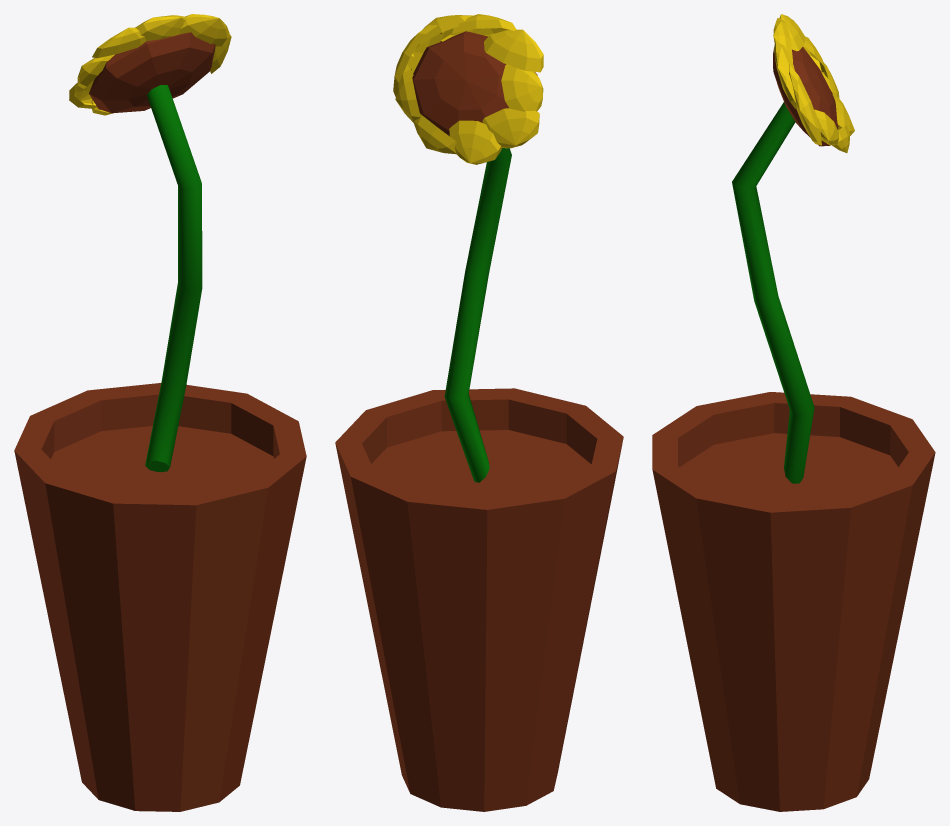
Rendered from vase.fbx.
3 views of the same model, side by side, from view 1: azimuth 30°, elevation 25°; view 2: azimuth 150°, elevation 25°; view 3: azimuth 270°, elevation 25° (orthographic). The views are drawn at different scales.
Parts seen in each view (by area): view 1: vase, stem, Sphere, Sphere.006, Sphere.005, Sphere.004, Sphere.003; view 2: vase, stem, Sphere, Sphere.004, Sphere.001, Sphere.002, Sphere.003, Sphere.007, Sphere.005, Sphere.009, Sphere.008, Sphere.006; view 3: vase, stem, Sphere, Sphere.007, Sphere.006, Sphere.008.
Part boxes in pixels (x1,y1,x2,y2): vase: [14, 383, 306, 811]; stem: [145, 85, 202, 472]; Sphere: [89, 32, 215, 113]; Sphere.006: [179, 14, 229, 46]; Sphere.005: [135, 15, 185, 40]; Sphere.004: [92, 27, 146, 58]; Sphere.003: [77, 54, 114, 88]; vase: [335, 388, 623, 811]; stem: [444, 148, 511, 482]; Sphere: [412, 31, 537, 136]; Sphere.004: [484, 29, 543, 72]; Sphere.001: [449, 120, 501, 164]; Sphere.002: [482, 108, 539, 148]; Sphere.003: [501, 64, 543, 111]; Sphere.007: [393, 25, 442, 96]; Sphere.005: [441, 14, 516, 41]; Sphere.009: [413, 113, 456, 154]; Sphere.008: [395, 68, 420, 122]; Sphere.006: [411, 15, 480, 56]; vase: [652, 392, 935, 811]; stem: [732, 102, 814, 483]; Sphere: [773, 47, 838, 146]; Sphere.007: [789, 65, 821, 145]; Sphere.006: [774, 40, 796, 108]; Sphere.008: [814, 109, 838, 145].
Bounding box in the file's own units: 184 × 533 × 182.
